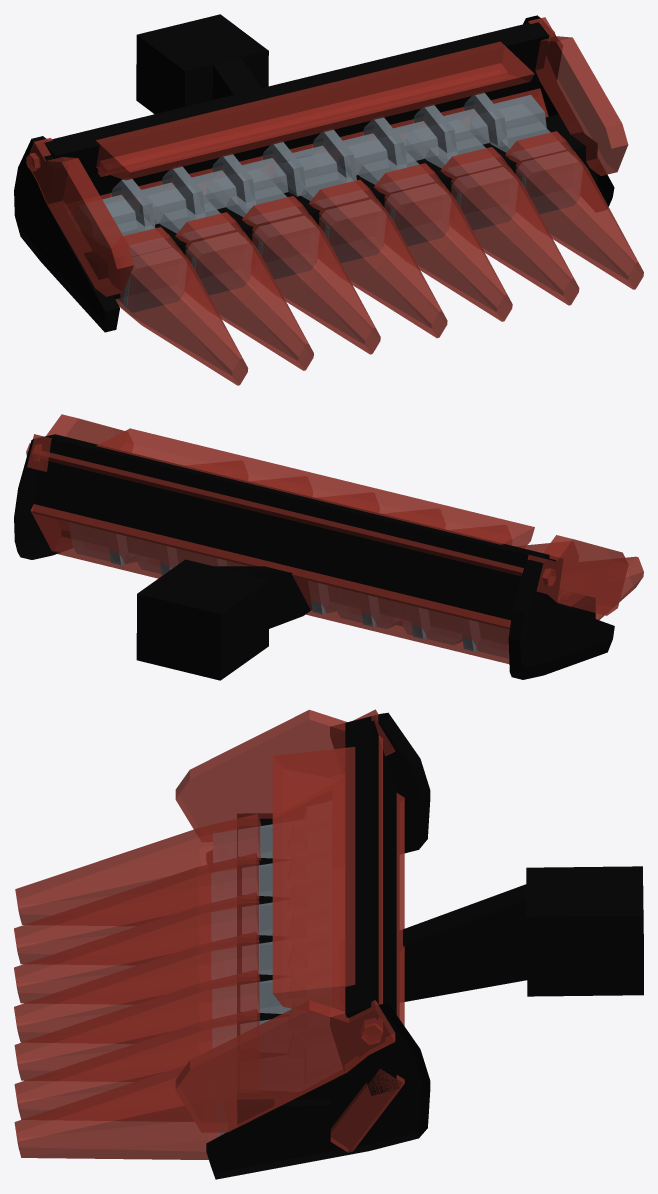
The model's file is combineSpikey1.fbx.
3 views of the same model, one above another, from view 1: azimuth 30°, elevation 25°; view 2: azimuth 150°, elevation 25°; view 3: azimuth 270°, elevation 25° (orthographic). The views are drawn at different scales.
Parts seen in each view (by area): view 1: spikey, roller; view 2: spikey, roller; view 3: spikey.
Part boxes in pixels (x1,y1,x2,y2): spikey: (14, 14, 643, 385); roller: (102, 93, 546, 228); spikey: (14, 414, 643, 680); roller: (69, 522, 509, 651); spikey: (14, 709, 643, 1179).
Size of the model in its own units: 507 by 141 by 441.
